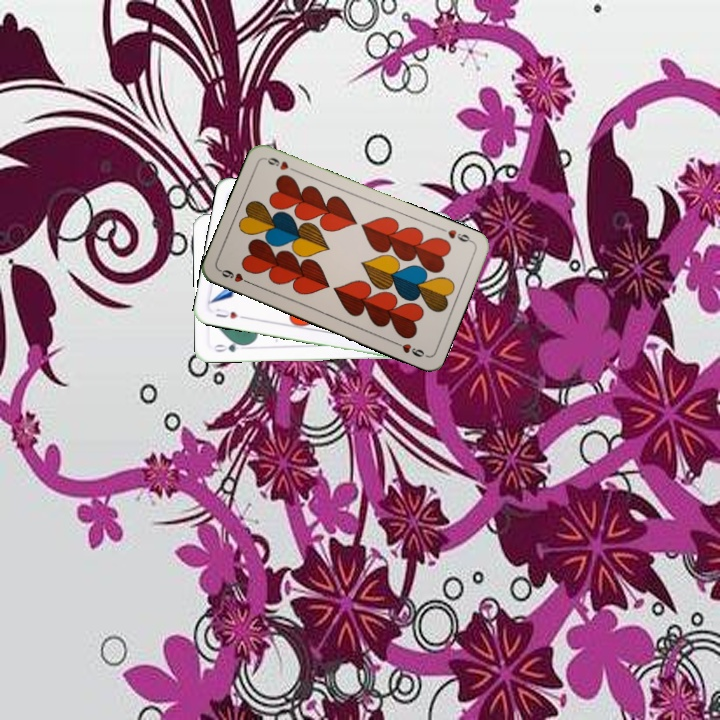GO: (210, 338, 250, 355)
H9: (216, 265, 255, 287), (444, 225, 476, 245)
HU: (211, 304, 248, 321)
